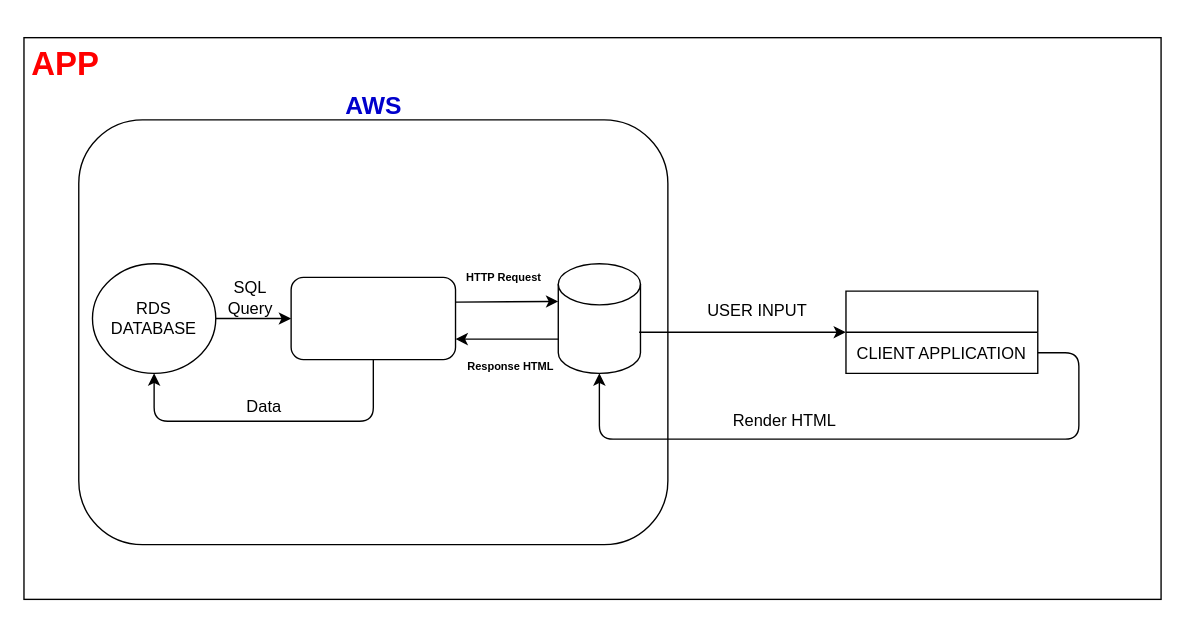
This 1185x623 diagram has some shape labels left out. Each missing label, with the centre of its shape:
Elasticbeanstalk API: [373,318]
S3 Bucket: [598,317]
